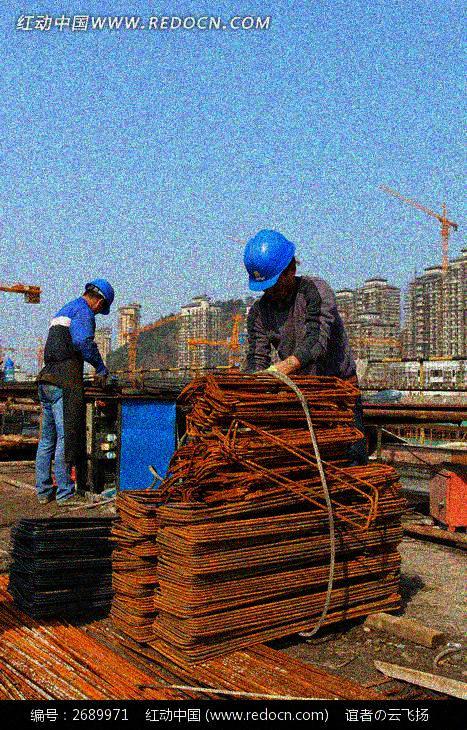helmet: (241, 228, 300, 303), (80, 277, 119, 320)
